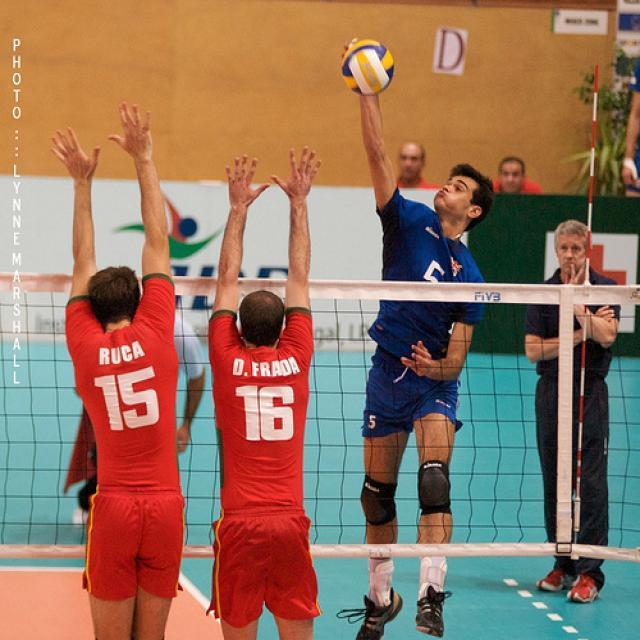volleyball: (341, 38, 396, 96)
